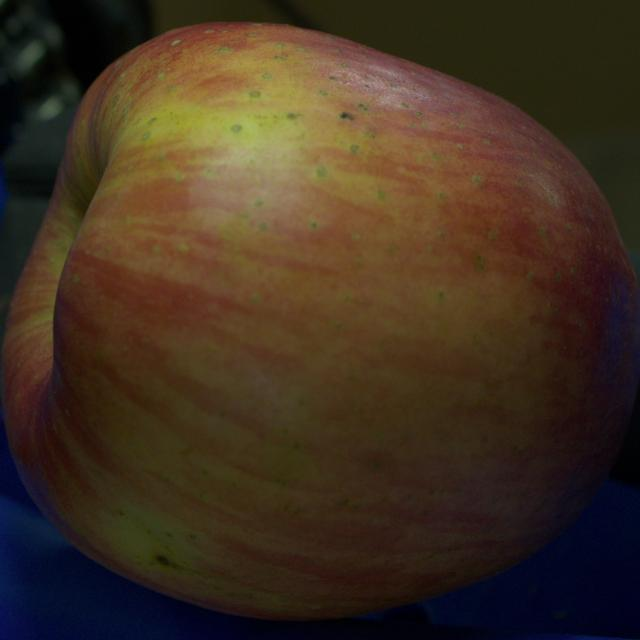apple: (1, 24, 639, 619)
pest: (156, 556, 174, 566), (340, 112, 355, 119)
